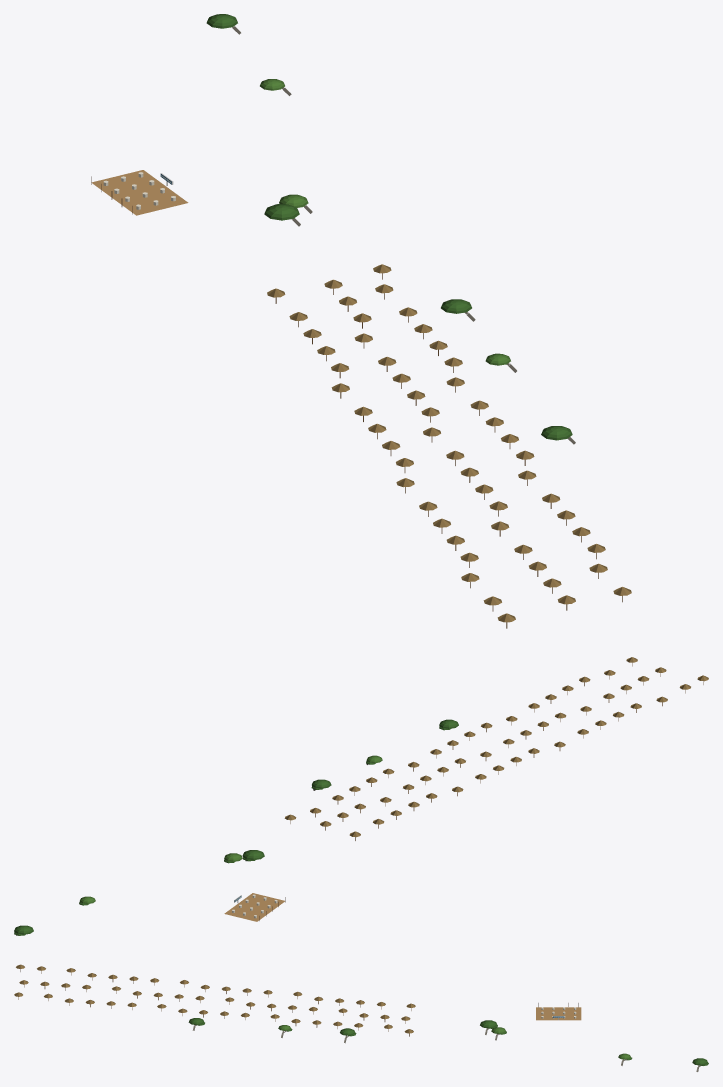
The model's file is eaglebeach_fx.glb.
3 views of the same model, one above another, from view 1: azimuth 30°, elevation 25°; view 2: azimuth 150°, elevation 25°; view 3: azimuth 270°, elevation 25° (orthographic). The views are drawn at different scales.
Parts seen in each view (by area): view 1: eaglebeach_fx_lod0; view 2: eaglebeach_fx_lod0; view 3: eaglebeach_fx_lod0.
Part boxes in pixels (x1,y1,x2,y2): eaglebeach_fx_lod0: [91, 14, 631, 628]; eaglebeach_fx_lod0: [14, 657, 708, 935]; eaglebeach_fx_lod0: [14, 964, 708, 1071].
Size of what is drawn, in the model's own units: 96.16 by 4.41 by 276.
12 materials, 1 textured.
